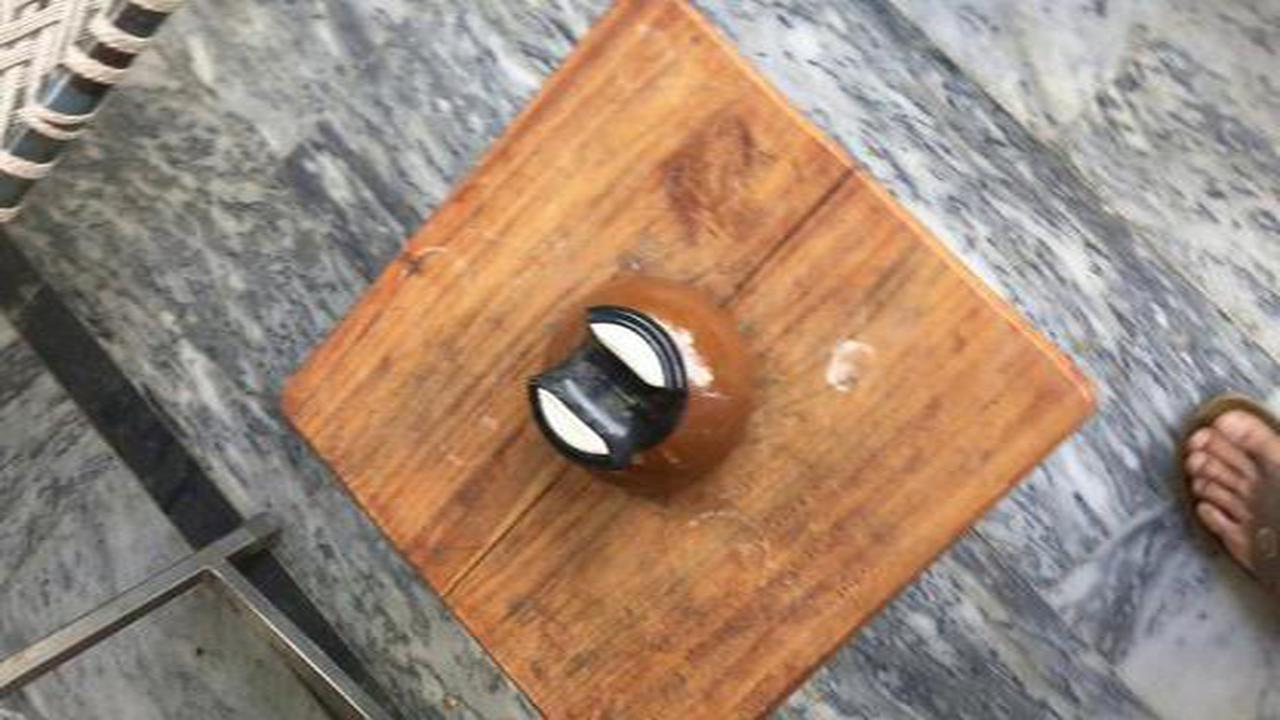insulator_pin: (493, 267, 773, 508)
